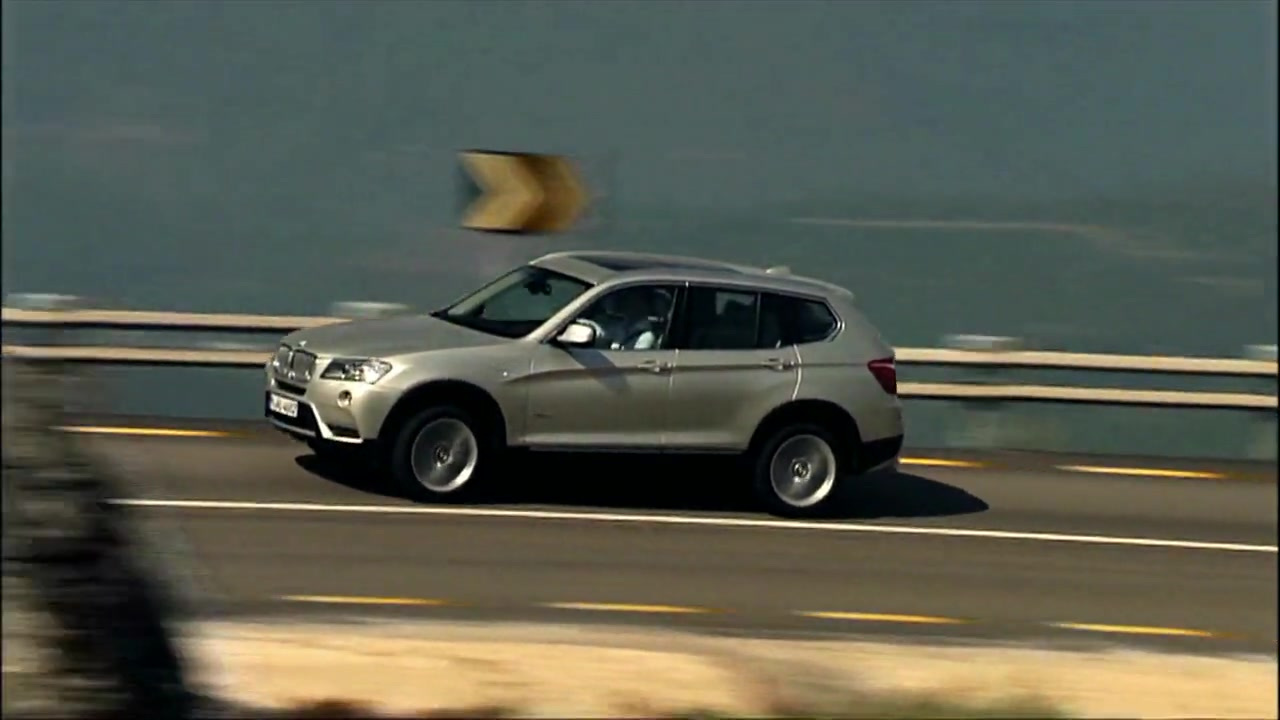car: (271, 246, 913, 520)
